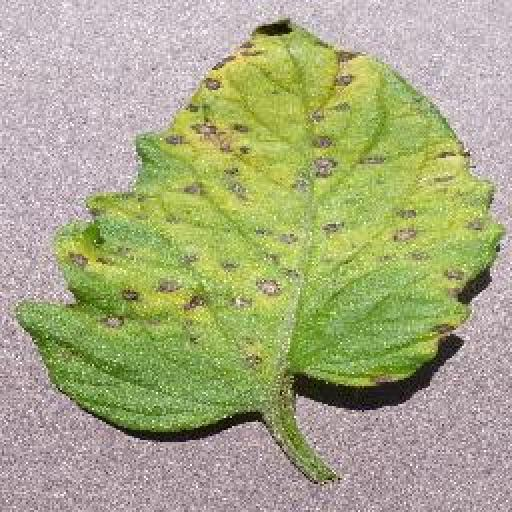Septoria: (20, 19, 503, 429)
